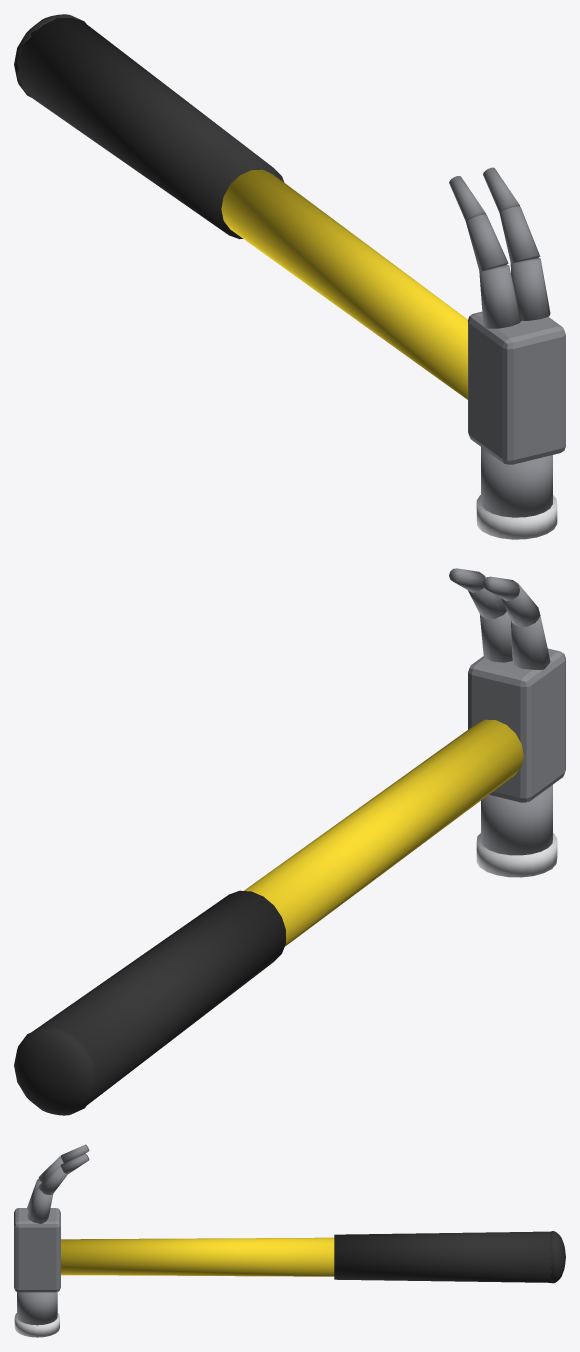
The model's file is hammer_500g.glb.
The picture shows the model from 3 angles, top to bottom: view 1: azimuth 30°, elevation 25°; view 2: azimuth 150°, elevation 25°; view 3: azimuth 270°, elevation 25°; orthographic projection. The views are drawn at different scales.
Parts seen in each view (by area): view 1: Handle_Grip, Handle_Core, Head_Eye, Head_Neck, Claw_L_0, Strike_Face, Claw_R_0, Claw_L_1, Claw_R_1, Claw_L_2, Claw_R_2; view 2: Handle_Grip, Handle_Core, Head_Eye, Grip_End, Head_Neck, Strike_Face, Claw_L_0, Claw_R_0, Claw_L_1, Claw_R_1; view 3: Handle_Grip, Handle_Core, Head_Eye, Head_Neck, Grip_End, Strike_Face, Claw_R_0, Claw_R_1, Claw_R_2, Claw_L_2.
Part boxes in pixels (x1,y1,x2,y2): Handle_Grip: [16, 17, 284, 239]; Handle_Core: [221, 169, 467, 399]; Head_Eye: [468, 311, 565, 464]; Head_Neck: [481, 447, 552, 517]; Claw_L_0: [479, 264, 520, 328]; Strike_Face: [476, 495, 557, 539]; Claw_R_0: [510, 258, 550, 320]; Claw_L_1: [466, 214, 508, 271]; Claw_R_1: [499, 206, 540, 262]; Claw_L_2: [449, 176, 485, 221]; Claw_R_2: [483, 167, 519, 212]; Handle_Grip: [32, 890, 285, 1104]; Handle_Core: [244, 719, 523, 946]; Head_Eye: [468, 648, 565, 802]; Grip_End: [14, 1027, 97, 1115]; Head_Neck: [481, 785, 552, 855]; Strike_Face: [476, 833, 557, 877]; Claw_L_0: [511, 611, 550, 669]; Claw_R_0: [480, 611, 512, 662]; Claw_L_1: [501, 584, 540, 626]; Claw_R_1: [468, 575, 506, 619]; Handle_Grip: [334, 1231, 552, 1282]; Handle_Core: [61, 1237, 334, 1276]; Head_Eye: [14, 1208, 60, 1292]; Head_Neck: [17, 1292, 57, 1325]; Grip_End: [550, 1231, 565, 1283]; Strike_Face: [14, 1313, 59, 1337]; Claw_R_0: [27, 1187, 53, 1223]; Claw_R_1: [38, 1165, 67, 1194]; Claw_R_2: [61, 1153, 89, 1174]; Claw_L_2: [61, 1144, 89, 1162].
Bounding box in the file's own units: 0.0336 × 0.1261 × 0.3534.
